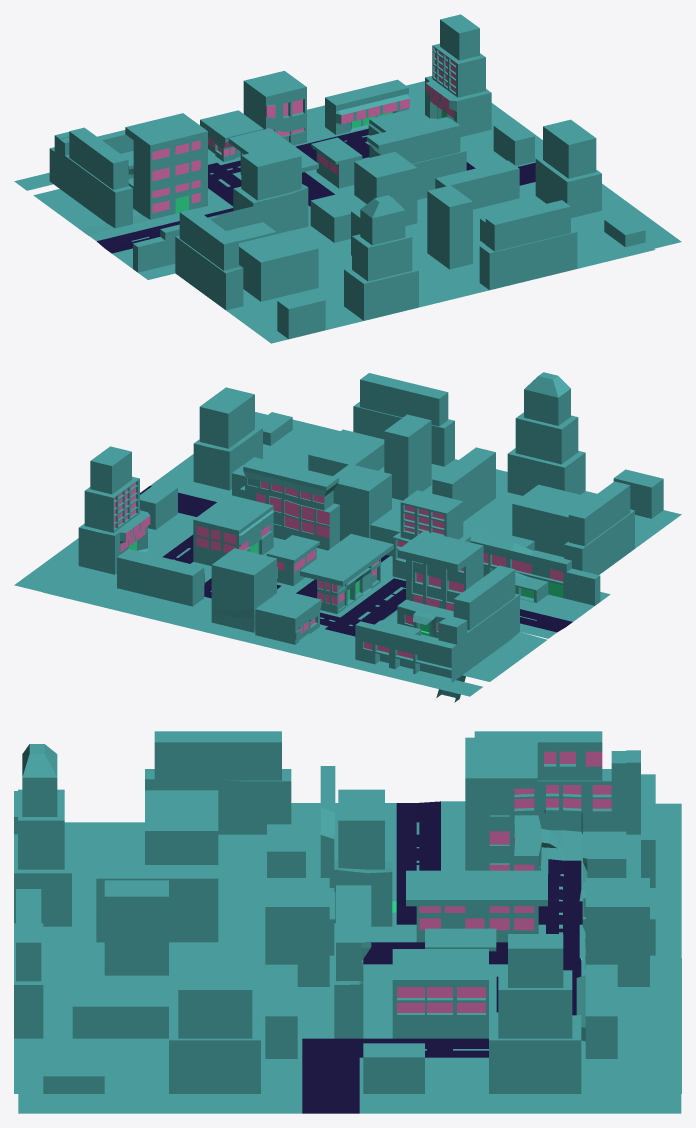
File: StartLevel.fbx
The picture shows the model from 3 angles, top to bottom: view 1: azimuth 30°, elevation 25°; view 2: azimuth 150°, elevation 25°; view 3: azimuth 270°, elevation 25°; orthographic projection. The views are drawn at different scales.
Parts seen in each view (by area): view 1: Plane.001; view 2: Plane.001; view 3: Plane.001.
Boxes of the visible parts, bbox=[...] form: Plane.001: bbox=[14, 14, 681, 343]; Plane.001: bbox=[14, 372, 681, 702]; Plane.001: bbox=[14, 731, 681, 1113].
Size of the model in its own units: 1689 by 544 by 1535.
